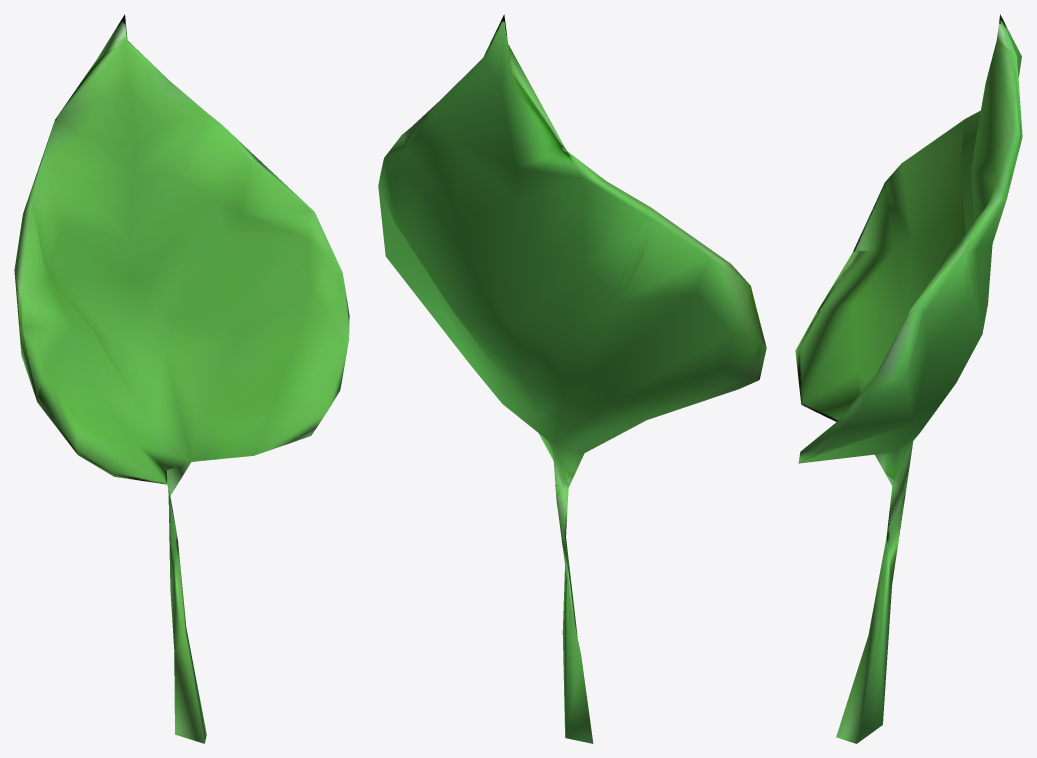
The model's file is leaf-single.glb.
3 renders of one model, left to right at view 1: azimuth 30°, elevation 25°; view 2: azimuth 150°, elevation 25°; view 3: azimuth 270°, elevation 25°, orthographic. The views are drawn at different scales.
Bounding box in the file's own units: 0.9892 × 2 × 0.5712.
Materials: 1 (1 with a texture image).
